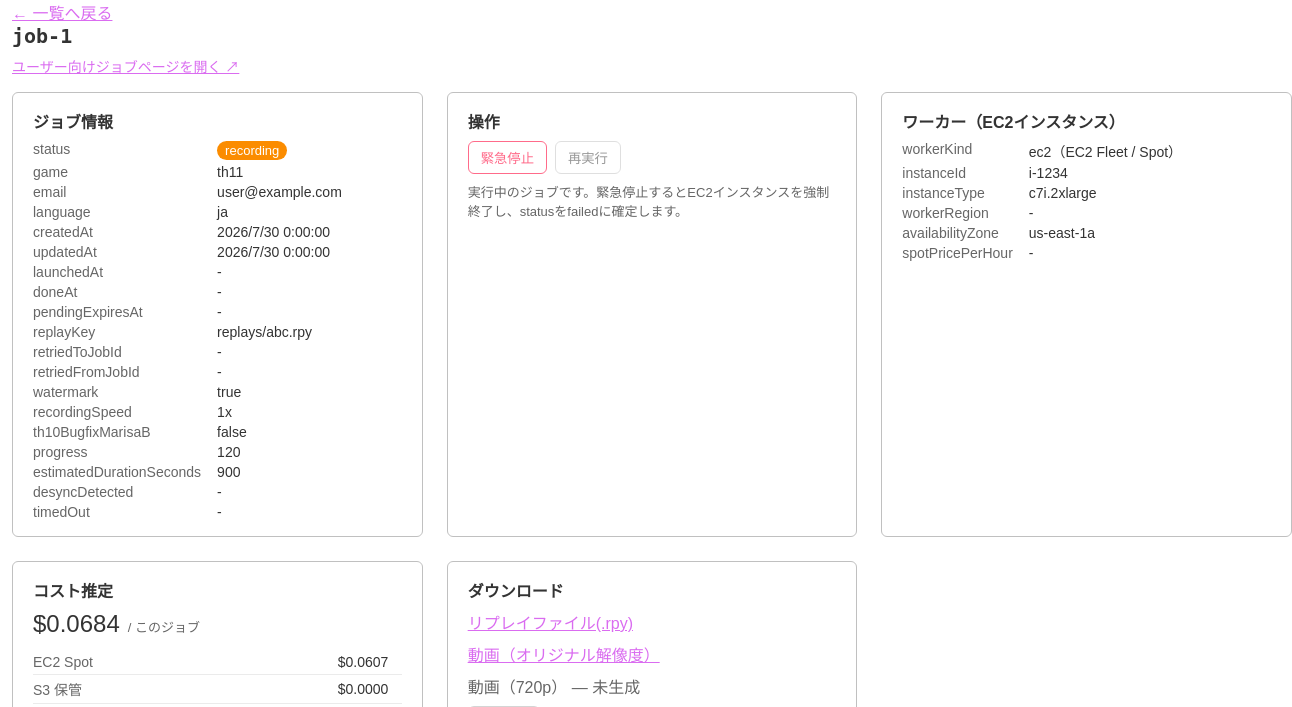
Test: JobDetailPage › 操作パネル(Issue #59) › 停止処理中に録画が完了していた場合はstatusがdoneのままであることを伝える
The image size is (1292, 707).
Click the button "緊急停止" at (507, 158), box [468,141,547,174]
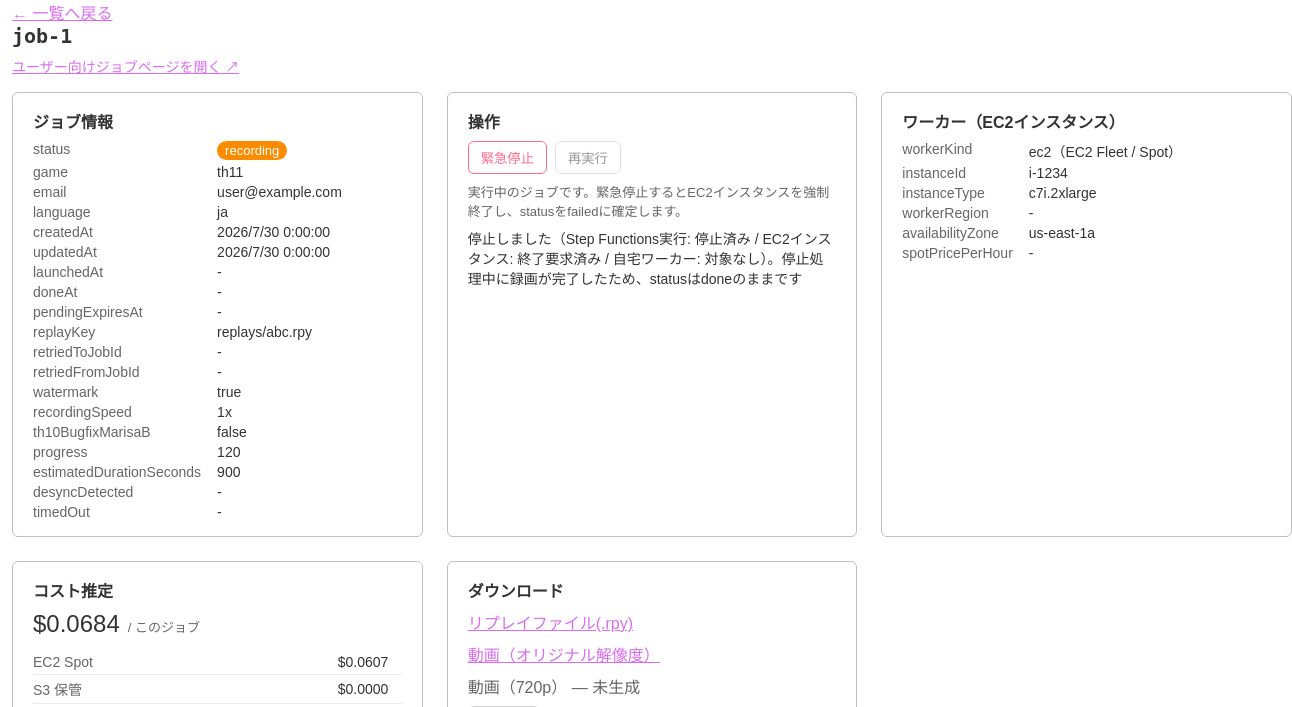
expect the text "statusはdoneのままです" is shown: met, box [468,231,832,287]
